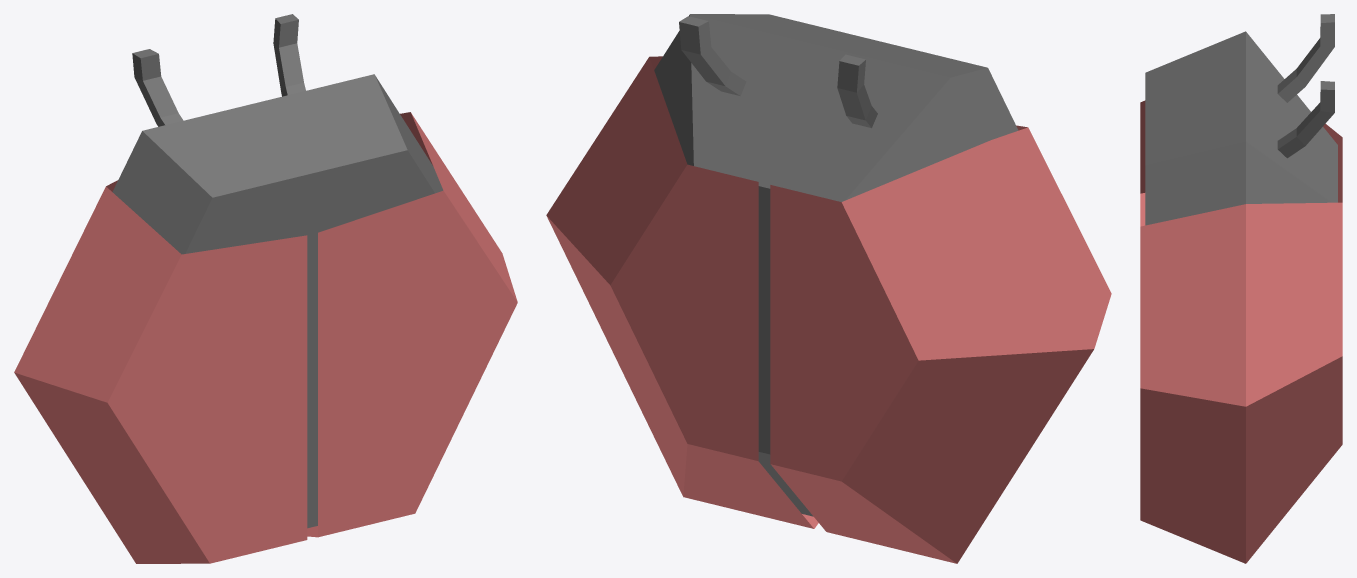
The model's file is bug.fbx.
The picture shows the model from 3 angles, left to right: view 1: azimuth 30°, elevation 25°; view 2: azimuth 150°, elevation 25°; view 3: azimuth 270°, elevation 25°; orthographic projection. The views are drawn at different scales.
Visible parts, largest first — view 1: bug; view 2: bug; view 3: bug.
Boxes of the visible parts, x1,y1,x2,y2 form: bug: (14,14,517,563); bug: (546,14,1111,563); bug: (1140,14,1342,563).
Size of the model in its own units: 54.31 by 49.64 by 20.06.
